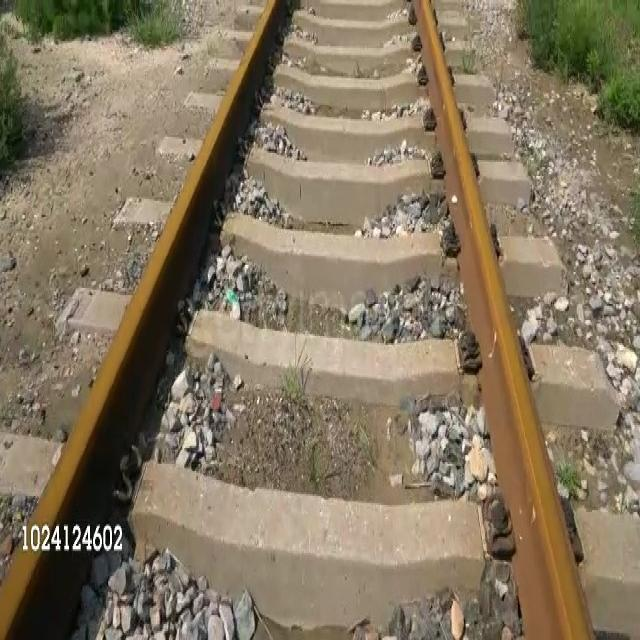Plant: (515, 0, 639, 132), (15, 0, 144, 41), (0, 58, 27, 180), (135, 7, 186, 48), (559, 467, 577, 491)
